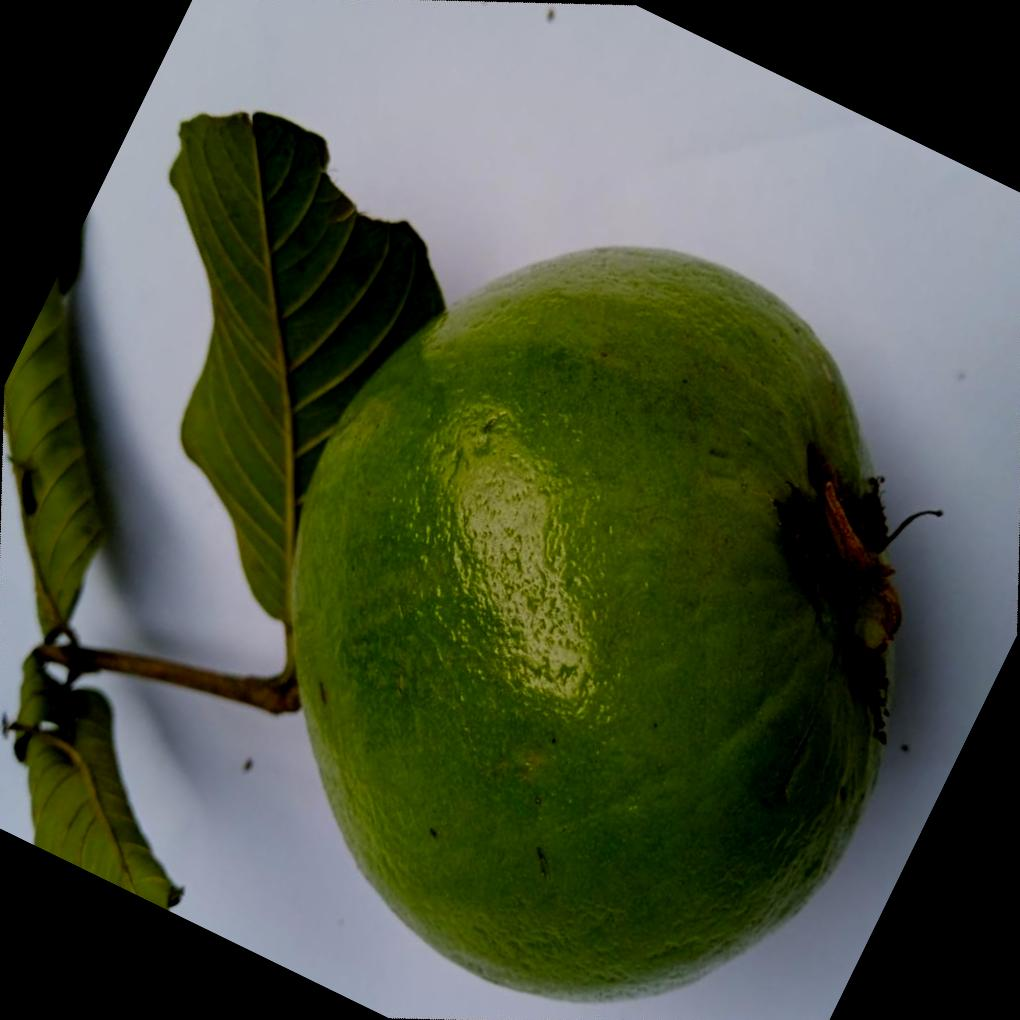FreshGuava: (168, 107, 906, 1001)
